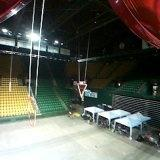Orange_Circle_GShape: (26, 97, 38, 126)
Orange_Triangle_Gshape: (77, 83, 88, 96)
